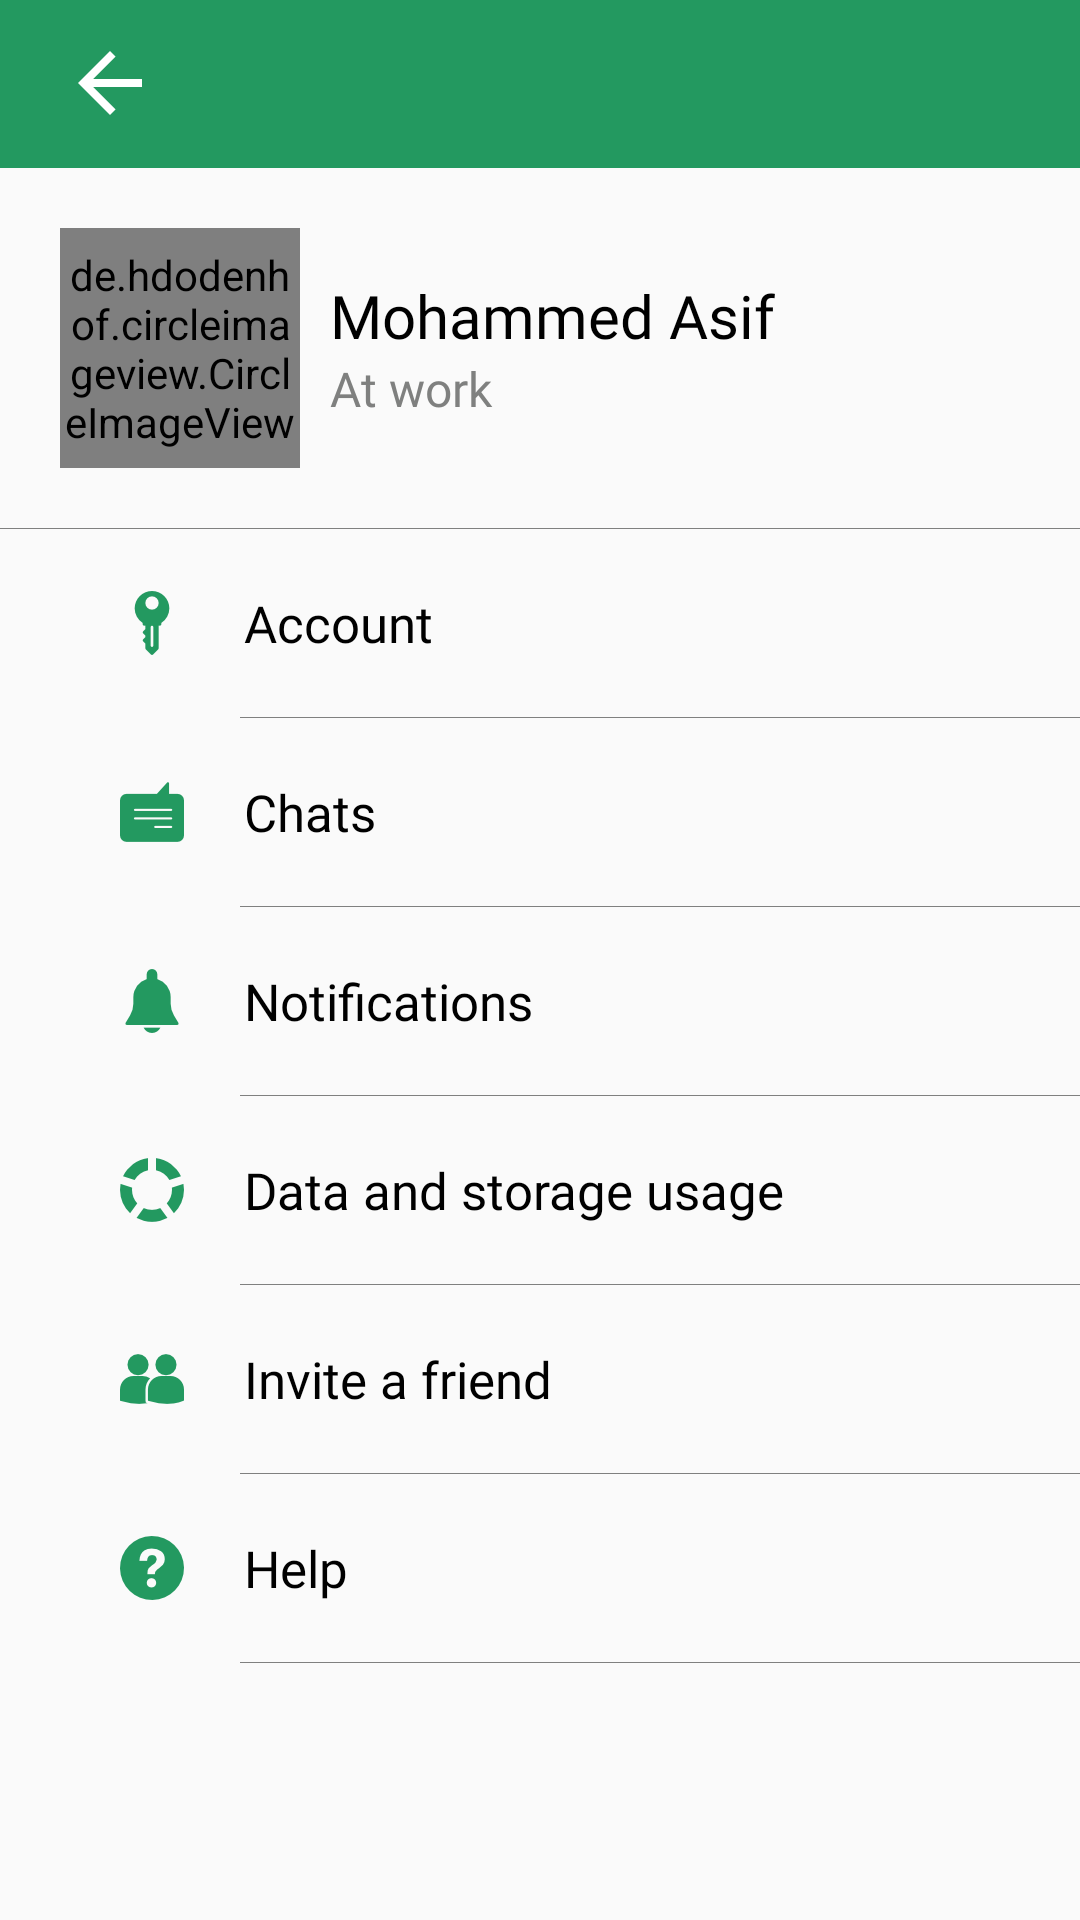

Screen size 1080 × 1920. Icon name, then its center in pixels as (x,y):
back arrow: (110,83)
invite friends: (152,1379)
key: (152,623)
